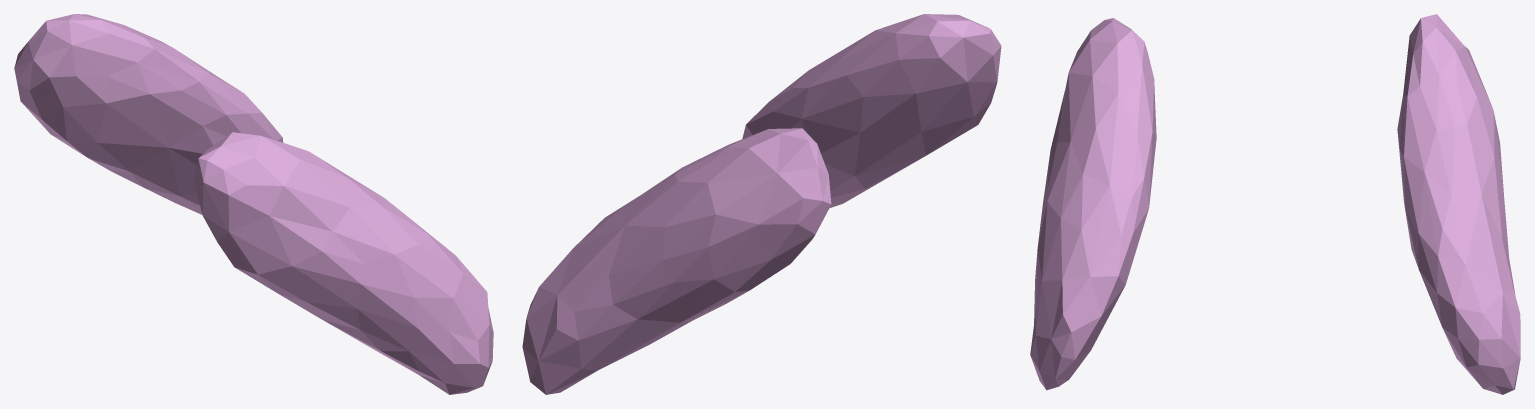
3 views of the same model, side by side, from view 1: azimuth 30°, elevation 25°; view 2: azimuth 150°, elevation 25°; view 3: azimuth 270°, elevation 25° (orthographic). The views are drawn at different scales.
Parts seen in each view (by area): view 1: 67.obj; view 2: 67.obj; view 3: 67.obj.
Boxes of the visible parts, x1=… form: 67.obj: x1=14, y1=14, x2=493, y2=394; 67.obj: x1=522, y1=14, x2=1001, y2=394; 67.obj: x1=1030, y1=14, x2=1520, y2=394.
Size of the model in its own units: 604 by 582 by 932.
